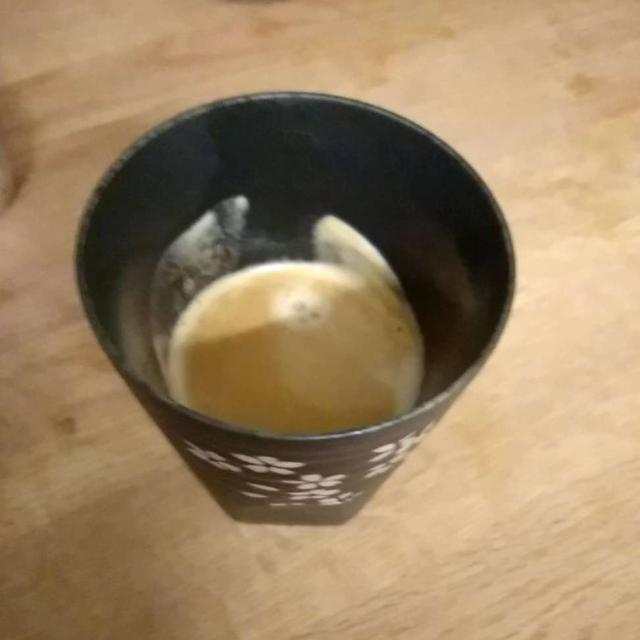coffee-with-caffeine: (167, 217, 419, 429)
